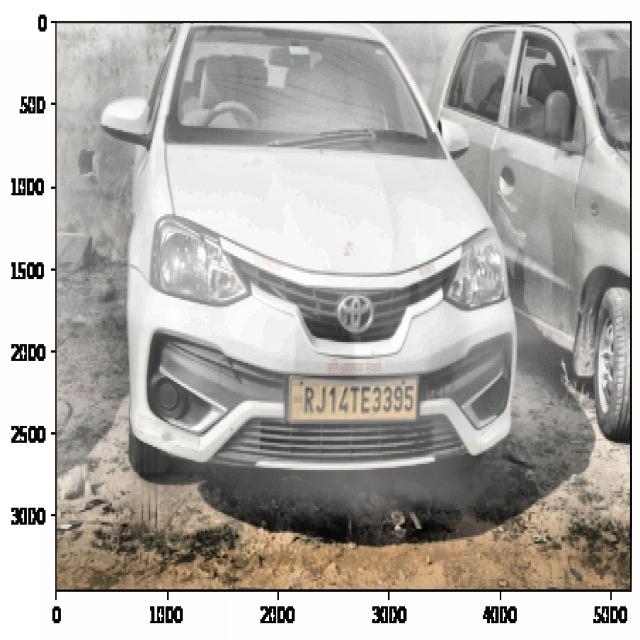license_plate: (296, 378, 421, 421)
